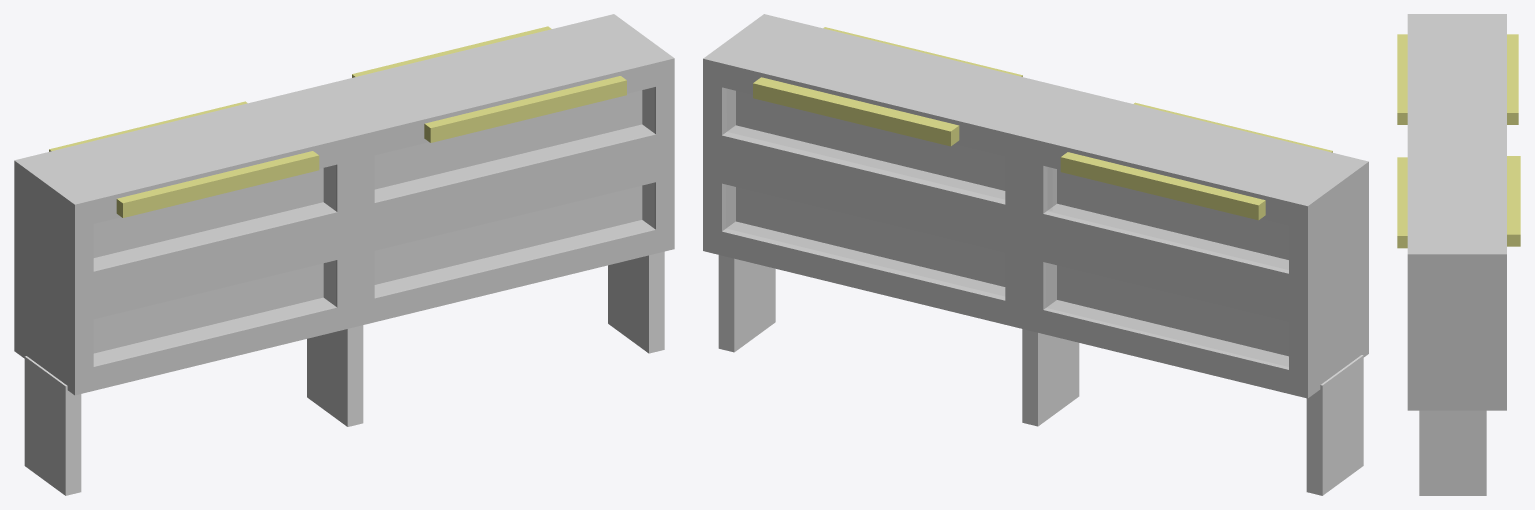
File: shelf_on_table.fbx
The picture shows the model from 3 angles, left to right: view 1: azimuth 30°, elevation 25°; view 2: azimuth 150°, elevation 25°; view 3: azimuth 270°, elevation 25°; orthographic projection. The views are drawn at different scales.
Visible parts, largest first — view 1: 立方体.003; view 2: 立方体.003; view 3: 立方体.003.
Boxes of the visible parts, box(x1,y1,x2,y2) form: 立方体.003: box(14, 14, 674, 495); 立方体.003: box(703, 14, 1368, 495); 立方体.003: box(1397, 14, 1520, 495).
Bounding box in the file's own units: 660 × 310 × 143.
